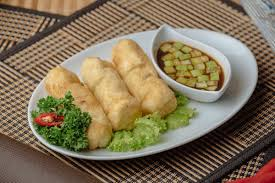Pempek lenjer: (33, 63, 114, 147), (107, 33, 178, 117), (71, 51, 143, 128)
